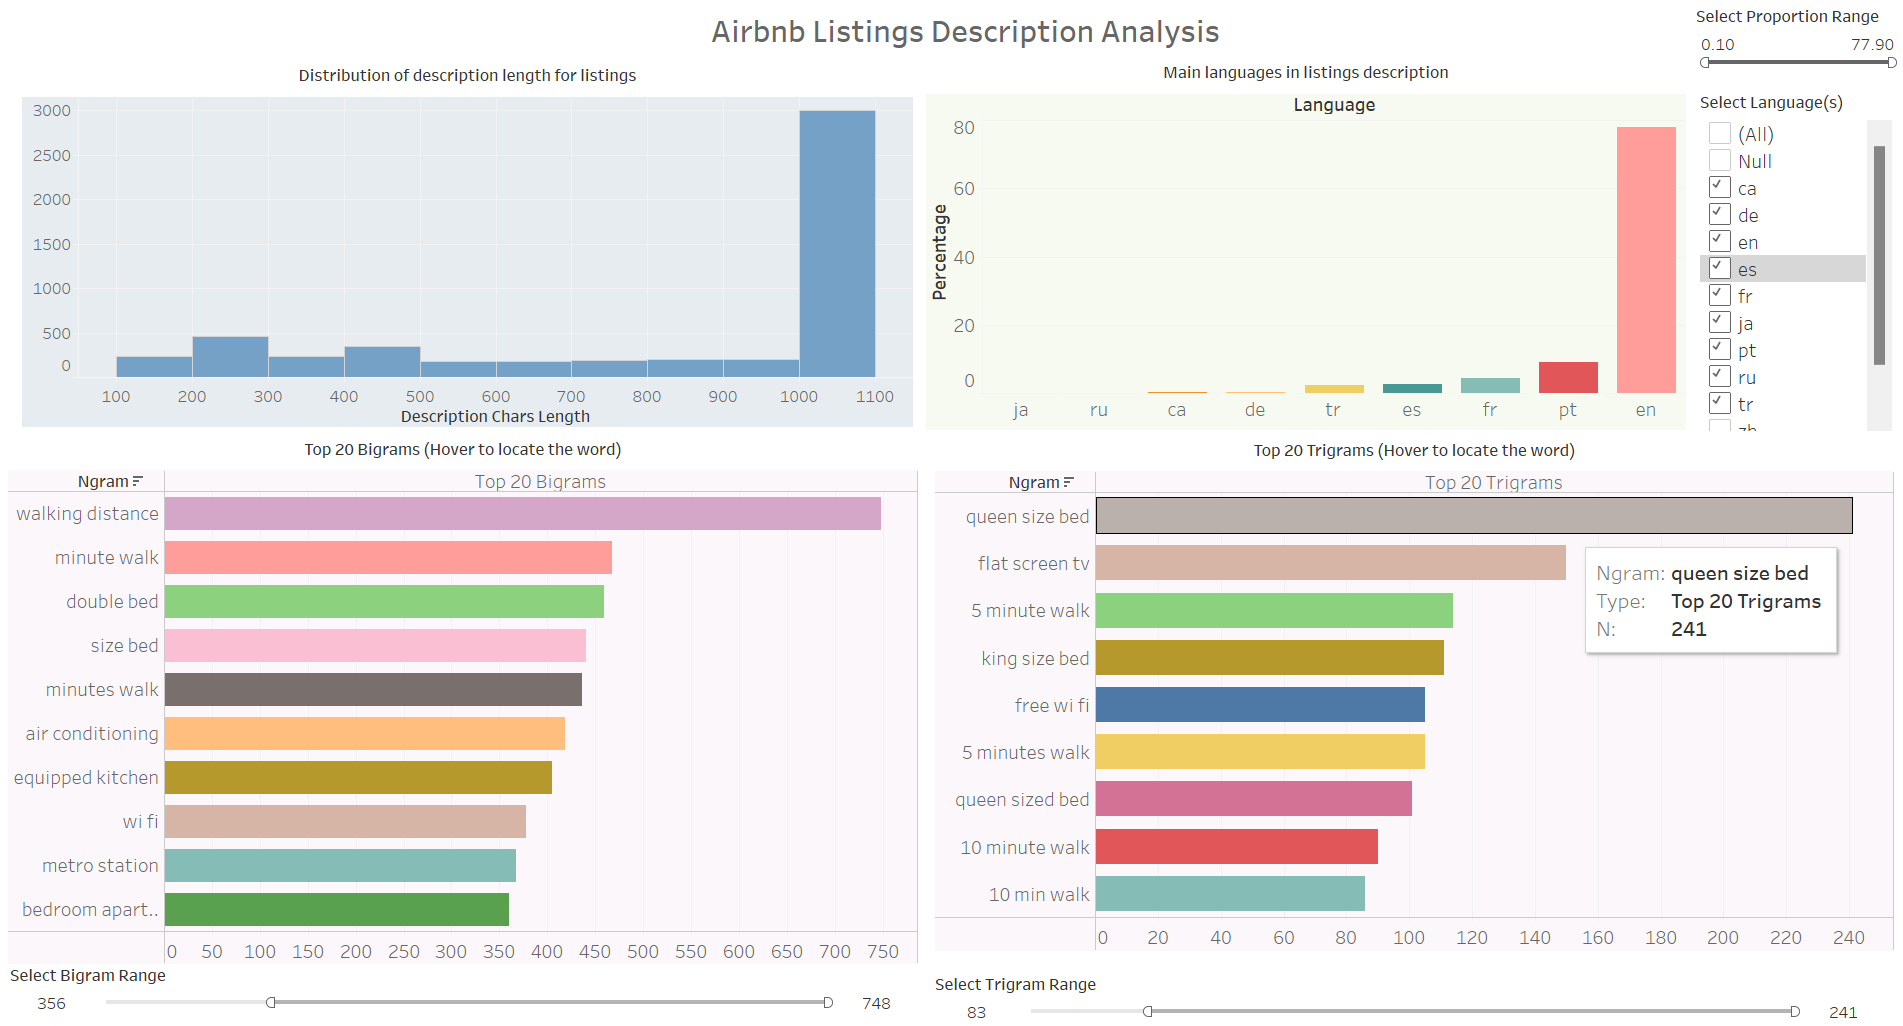

This screenshot's page, from the dashboard's own definition file:
{"tool":"tableau","page":{"name":"Dashboard 1","canvas":[1000,1000],"units":"permille","ordinal":0},"visuals":[{"type":"filter","title":"language","param":"[federated.1afbsa310i6unk1f4lz8v0x1xk55].[sum:percentage:qk]","box":[886,10,107,86.2]},{"type":"text","box":[337.2,14.9,336,37.2]},{"type":"worksheet","title":"language","mark":"Automatic","rows":["percentage"],"cols":["language"],"box":[484.9,59.6,395.9,361]},{"type":"worksheet","title":"length","mark":"Automatic","rows":["desc_length_chars"],"cols":["Desc Length Chars (bin)"],"box":[14.2,63.3,463.9,354.8]},{"type":"filter","title":"language","param":"[federated.1afbsa310i6unk1f4lz8v0x1xk55].[none:language:nk]","box":[888,92.5,100,328.8]},{"type":"worksheet","title":"Bigram","mark":"Bar","rows":["ngram"],"cols":["type","n"],"box":[7,423.8,474,512.5]},{"type":"worksheet","title":"Trigram","mark":"Bar","rows":["ngram"],"cols":["type","n"],"box":[489.8,425.6,499.7,513.6]},{"type":"filter","title":"Bigram","param":"[federated.1hejh56031knx812otf4y0ldyi63].[attr:n:qk]","box":[8,936.2,474,58.8]}]}

Visuals, with their boxes on the dashboard's canvas, which has no fixed pixel size, in thousandths of its width and height (x1, y1, x2, y2). These are canvas units, not pixel positions in the 1903x1026 screenshot, which may show the page scaled, cropped or inside an application window:
"language" filter: {"left": 886, "top": 10, "right": 993, "bottom": 96}
text: {"left": 337, "top": 15, "right": 673, "bottom": 52}
"language" worksheet: {"left": 485, "top": 60, "right": 881, "bottom": 421}
"length" worksheet: {"left": 14, "top": 63, "right": 478, "bottom": 418}
"language" filter: {"left": 888, "top": 92, "right": 988, "bottom": 421}
"Bigram" worksheet (Bar marks): {"left": 7, "top": 424, "right": 481, "bottom": 936}
"Trigram" worksheet (Bar marks): {"left": 490, "top": 426, "right": 990, "bottom": 939}
"Bigram" filter: {"left": 8, "top": 936, "right": 482, "bottom": 995}
